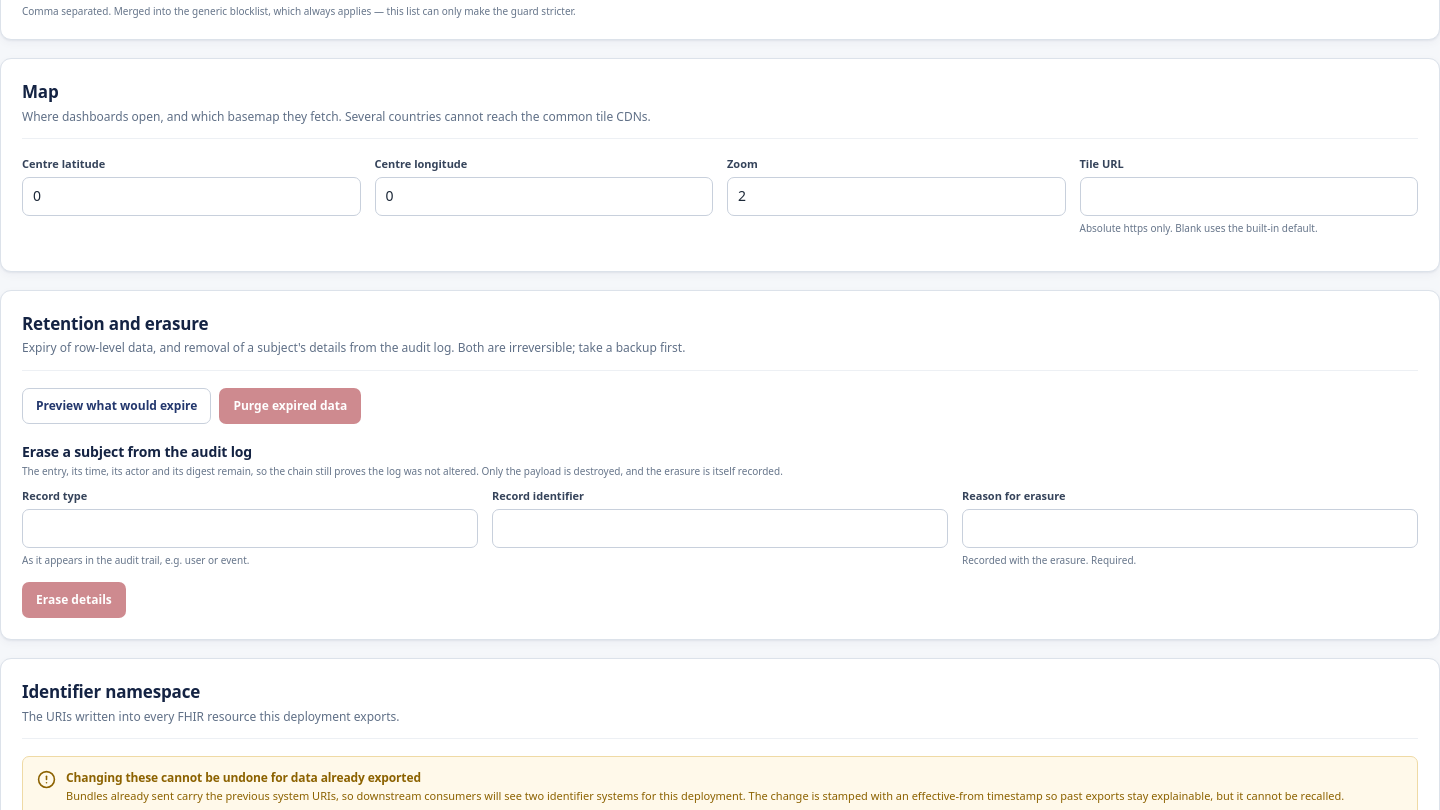
Test: DeploymentPage › DeploymentPage privacy operations › previews as a dry run before anything can be deleted
(page scrolled)
Click the button "Preview what would expire": (117, 406) top-left (22, 388), bottom-right (211, 424)
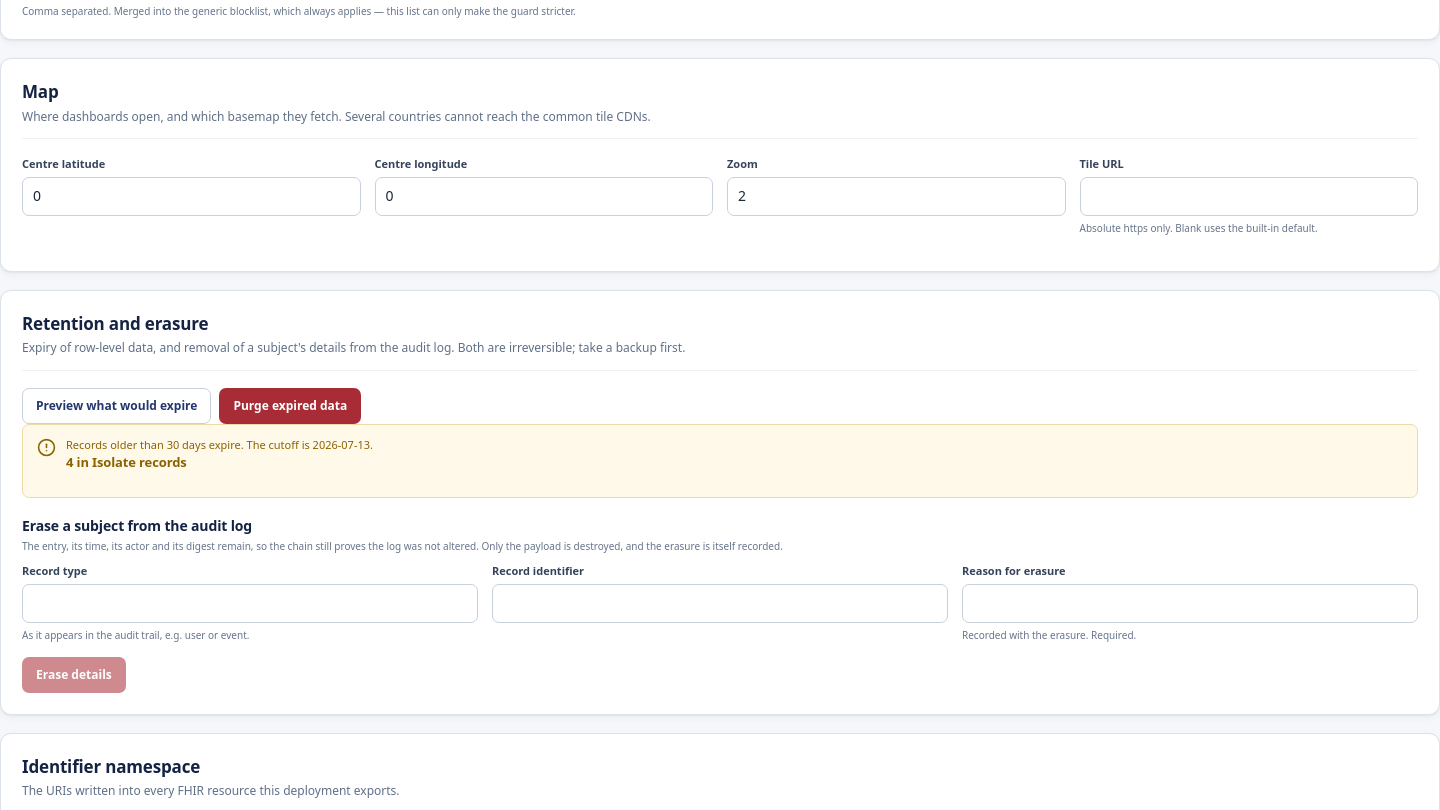
Expected: the text "4 in Isolate records" is shown, top-left (66, 453), bottom-right (187, 471)
